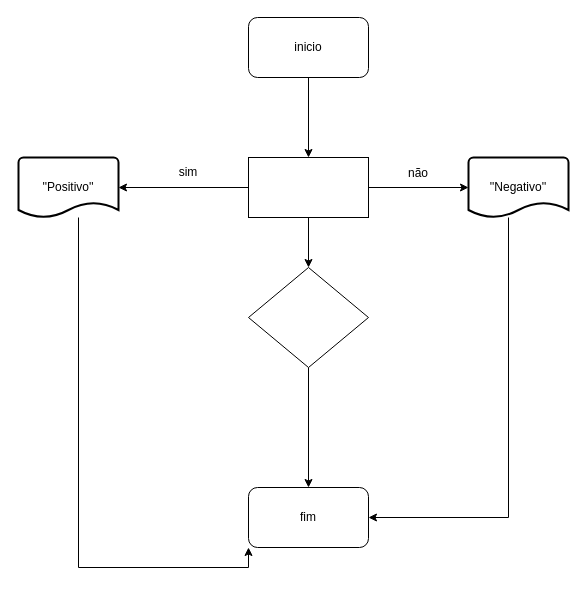
This 586x593 diagram has some shape labels left out. The shapes that lost their labels are listed below. From the top down, each one's box as (x1, y1, x2, y2) in pixels, then its label:
(248, 156, 368, 218): diferente de 0
(248, 266, 368, 368): N=>0 N=<0
